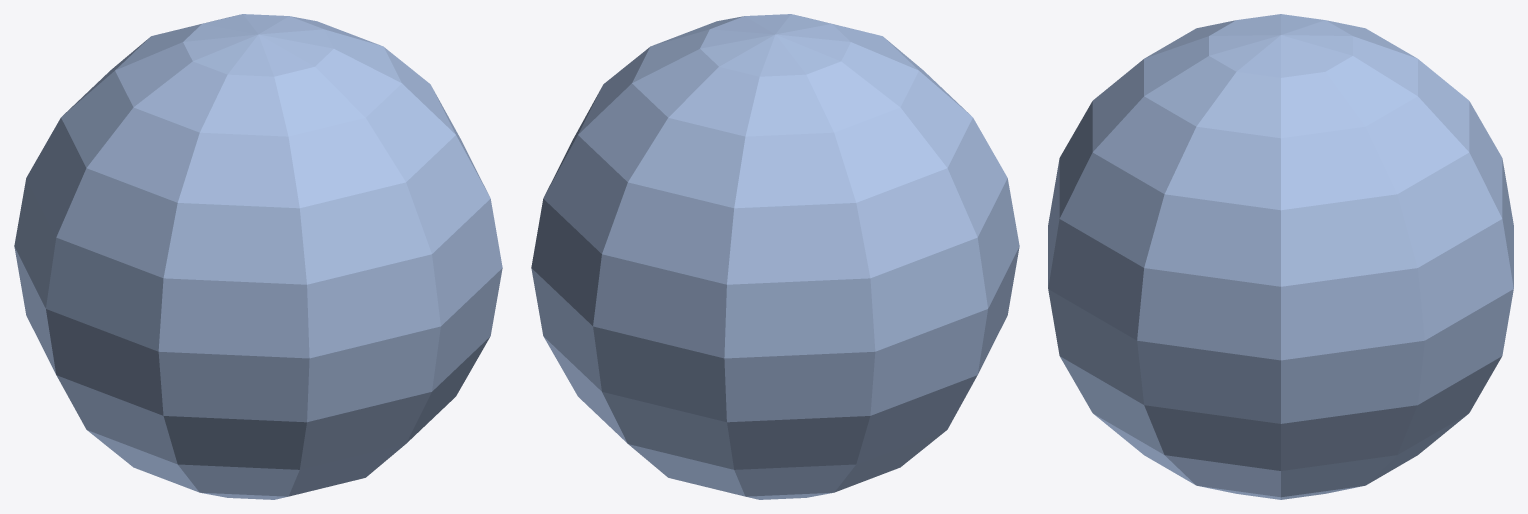
Rendered from Glass_Out.fbx.
3 views of the same model, side by side, from view 1: azimuth 30°, elevation 25°; view 2: azimuth 150°, elevation 25°; view 3: azimuth 270°, elevation 25° (orthographic).
Parts seen in each view (by area): view 1: polySurface2; view 2: polySurface2; view 3: polySurface2.
Part boxes in pixels (<box>): polySurface2: <box>14,14,502,499</box>; polySurface2: <box>531,14,1019,499</box>; polySurface2: <box>1048,14,1513,499</box>.
Bounding box in the file's own units: 5.5 × 5.5 × 5.23.
